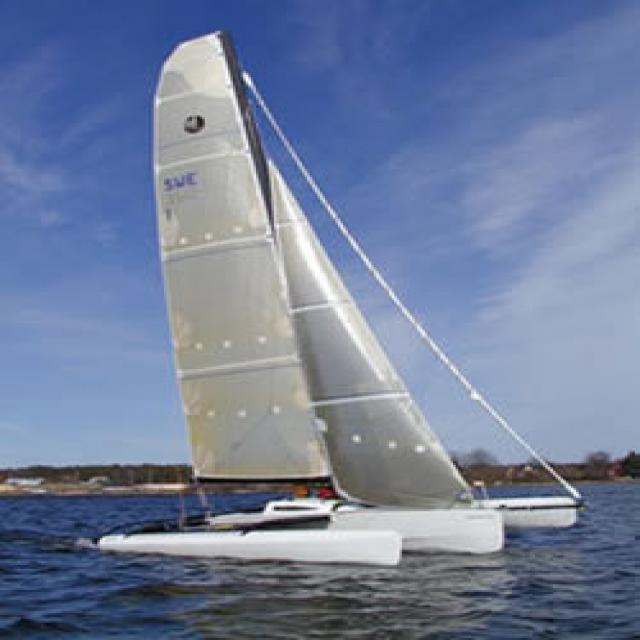Ship: (120, 30, 587, 568)
